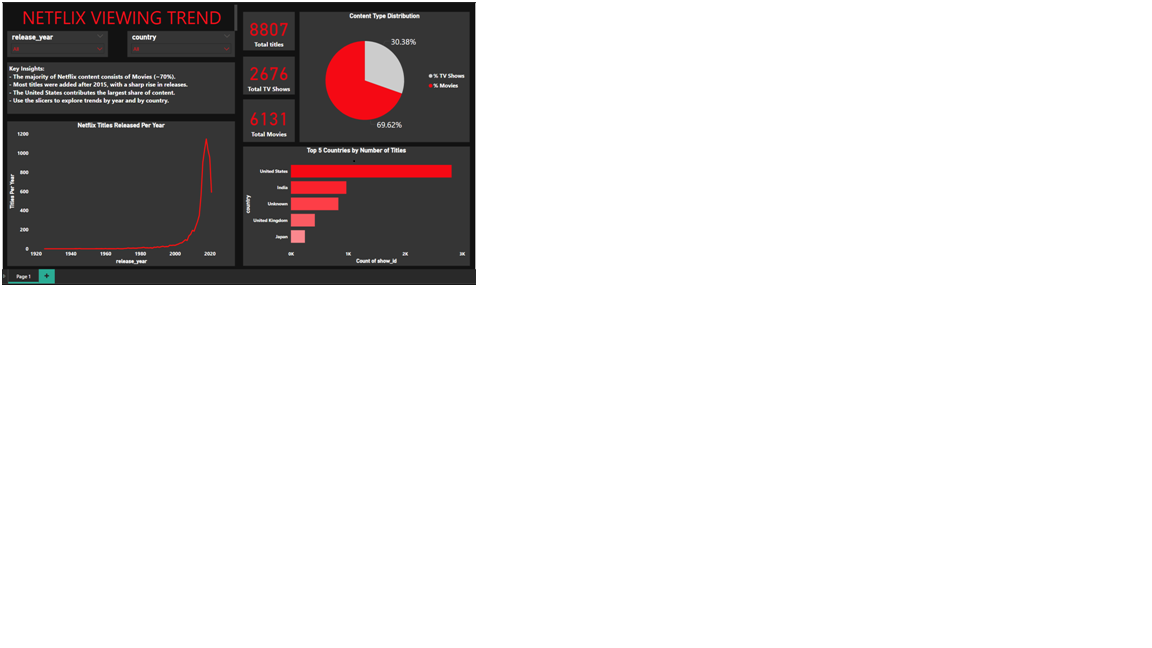

The dashboard page shown, as its layout file describes it:
{"tool":"powerbi","page":{"name":"Page 1","canvas":[1280,720],"ordinal":0},"visuals":[{"type":"card","fields":{"Values":["netflix_titles.Total titles"]},"box":[650.6,24.7,140.3,103.9],"z":0},{"type":"card","fields":{"Values":["netflix_titles.Total Movies"]},"box":[650.6,261,140.3,115.6],"z":1000},{"type":"card","fields":{"Values":["netflix_titles.Total TV Shows"]},"box":[650.6,145.5,140.3,102.6],"z":2000},{"type":"lineChart","title":"Netflix Titles Released Per Year","fields":{"Category":["netflix_titles.release_year"],"Y":["netflix_titles.Titles Per Year"]},"box":[11.7,319.5,616.9,390.9],"z":3000},{"type":"textbox","box":[12.1,0,628.2,85.9],"z":4000},{"type":"pieChart","title":"Content Type Distribution ","fields":{"Y":["netflix_titles.% TV Shows","netflix_titles.% Movies"]},"box":[803.9,24.7,461,351.9],"z":5000},{"type":"clusteredBarChart","title":"Top 5 Countries by Number of Titles","fields":{"Y":["CountNonNull(netflix_titles.show_id)"],"Category":["netflix_titles.country"]},"box":[650.6,388.3,614.3,322.1],"z":6000},{"type":"slicer","title":"Filter by year","fields":{"Values":["netflix_titles.release_year"]},"box":[11.7,75.3,272.7,70.1],"z":7000},{"type":"slicer","fields":{"Values":["netflix_titles.country"]},"box":[337.7,75.3,290.9,70.1],"z":8000},{"type":"textbox","box":[11.7,161,616.9,139],"z":8001}]}

Visuals, with their boxes on the page's 1280x720 design canvas (x1, y1, x2, y2). These are canvas units, not pixel positions in the 1152x648 screenshot, which may show the page scaled, cropped or inside an application window:
card - netflix_titles.Total titles: <box>651,25,791,129</box>
card - netflix_titles.Total Movies: <box>651,261,791,377</box>
card - netflix_titles.Total TV Shows: <box>651,146,791,248</box>
"Netflix Titles Released Per Year" lineChart: <box>12,320,629,710</box>
textbox: <box>12,0,640,86</box>
"Content Type Distribution " pieChart: <box>804,25,1265,377</box>
"Top 5 Countries by Number of Titles" clusteredBarChart: <box>651,388,1265,710</box>
"Filter by year" slicer: <box>12,75,284,145</box>
slicer - netflix_titles.country: <box>338,75,629,145</box>
textbox: <box>12,161,629,300</box>
